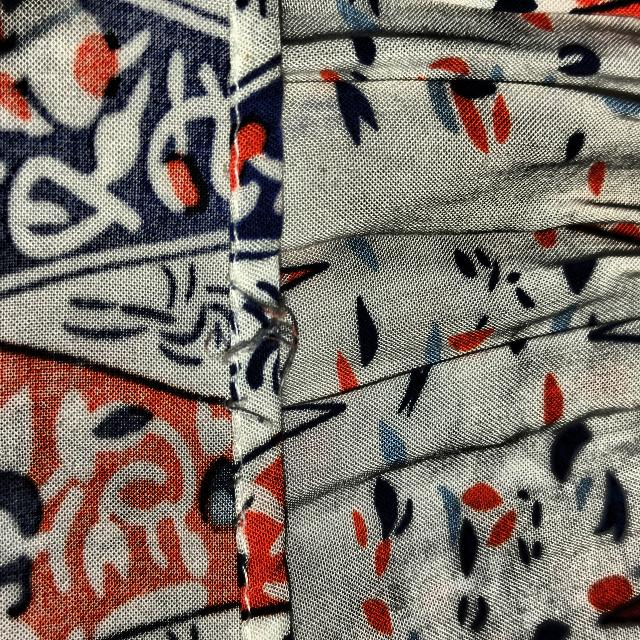Stitch: (184, 270, 334, 467)
